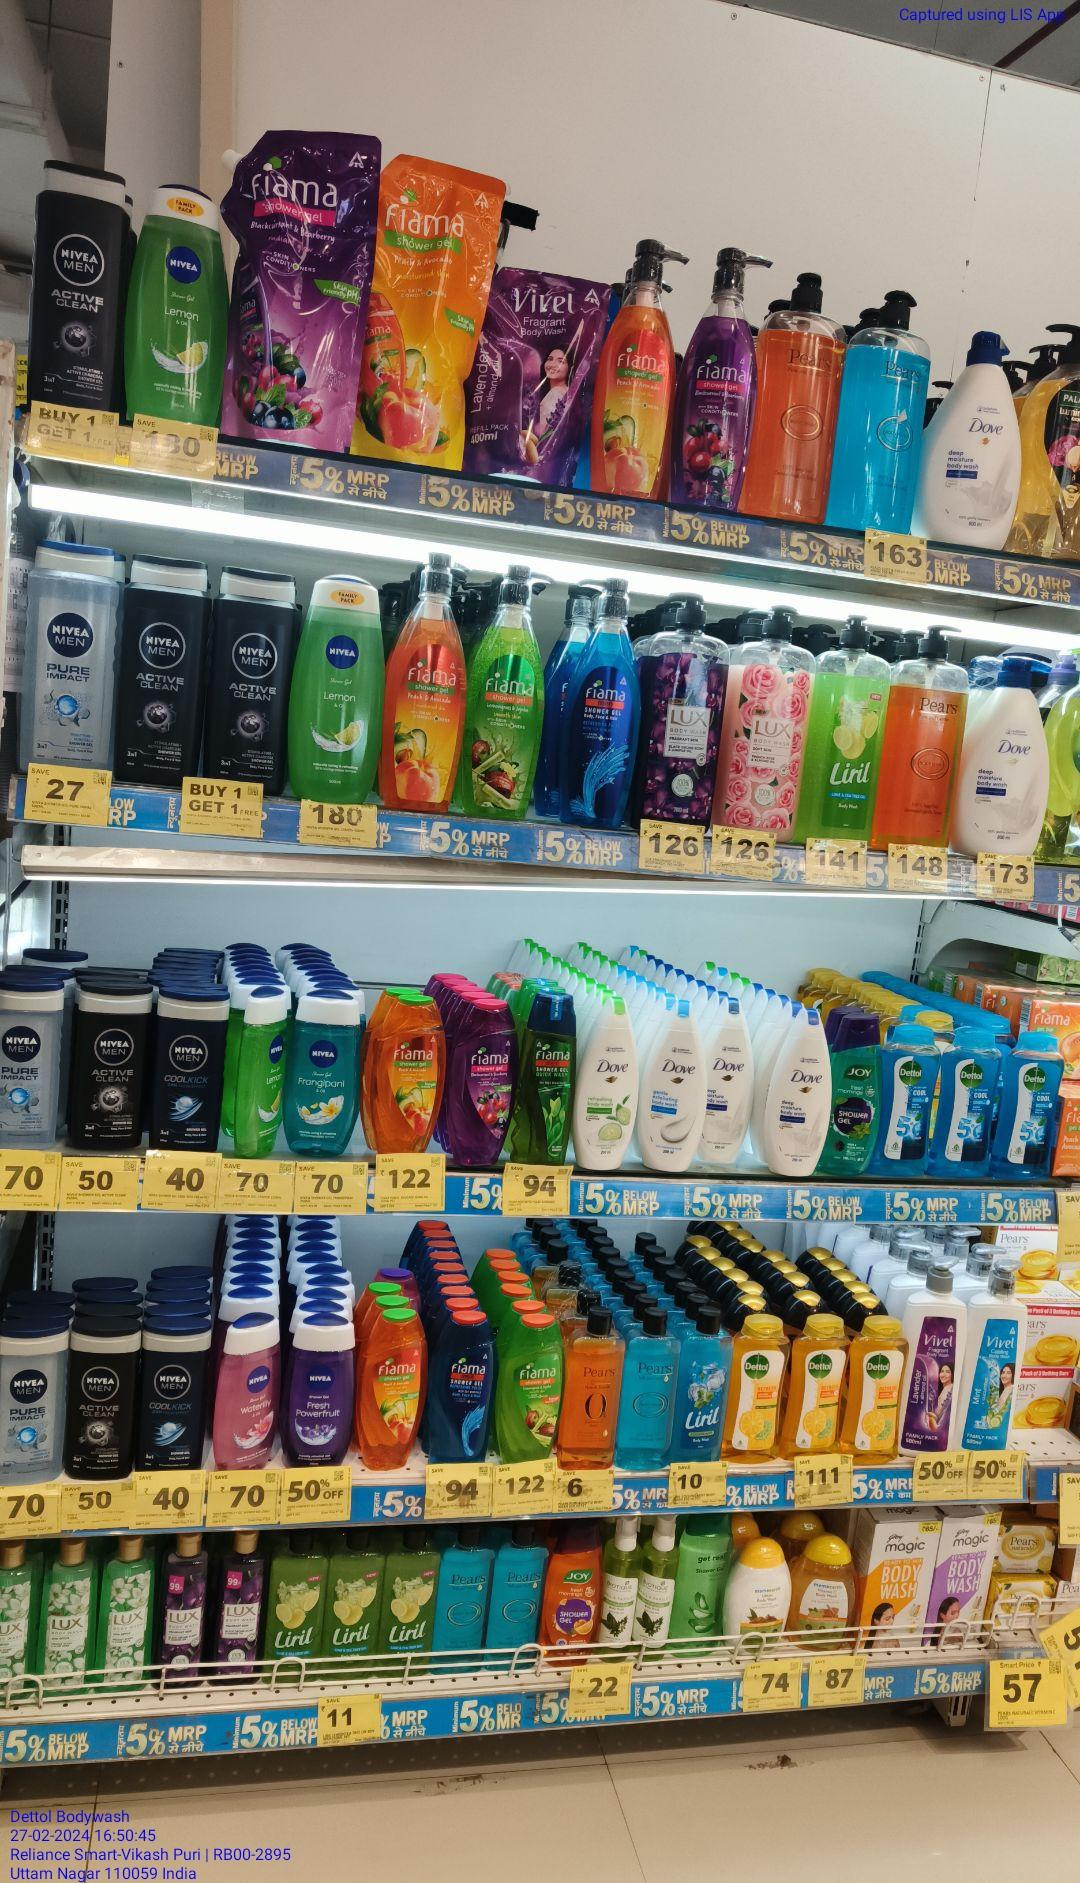Dettol_Bodywash_Cool: (943, 1027, 997, 1185), (1006, 1032, 1062, 1185), (886, 1023, 935, 1178)
Dettol_Bodywash_Refresh: (728, 1320, 781, 1467), (848, 1320, 903, 1460), (792, 1318, 843, 1458)
Dove_Deep_Moisture_Body_Wash_250ML: (770, 1006, 828, 1178), (709, 997, 757, 1169)
Dove_Gentle_Exfoliating_Body_Wash_250ML: (642, 1000, 707, 1173)
Dove_Refreshing_Body_Wash_250ML: (578, 998, 639, 1172)
Fiama_Shower_Gel_Lemongrass_and_Jojoba_250ML: (503, 1317, 561, 1465)
Fiama_Shower_Gel_Peach_and_Avocado_250ML: (358, 1311, 426, 1474), (376, 992, 440, 1161)
Joy_Shower_Gel_Mandarin_and_Lemongrass_250ML: (546, 1522, 608, 1666)
Joy_Shower_Gel_Mint_and_Eucalyptus_250ML: (833, 1011, 881, 1178)
Liril_Cooling_Mint_Body_Wash_250ML: (678, 1309, 726, 1470)
Liril_Lime_and_Tea_Tree_Oil_Body_Wash_250ML: (269, 1534, 321, 1685), (329, 1531, 380, 1683), (384, 1527, 433, 1680)
Lux_Black_Orchid_Scent_and_Juniper_Oil_Body_Wash_245ML: (158, 1531, 212, 1694), (216, 1530, 264, 1689)
Lux_Body_Wash_Skin_Detox_Freesia_Scent_and_Alove_Vera_245ML: (101, 1536, 154, 1694), (44, 1539, 94, 1702), (0, 1539, 38, 1711)
Nivea_Shower_Gel_Frangipani_and_Oil_250ML: (290, 987, 354, 1161)
Nivea_Shower_Gel_Fresh_Powerfruit_250ML: (287, 1318, 347, 1467)
Nivea_Shower_Gel_Lemon_and_Oil_250ML: (124, 180, 232, 427), (294, 573, 385, 808), (243, 991, 288, 1163)
Nivea_Shower_Gel_Waterlily_and_Oil_250ML: (215, 1311, 279, 1472)
Pears_Pure_Glycerin_and_Mint_Extracts_Body_Wash_250ML: (630, 1309, 676, 1478), (438, 1525, 488, 1680), (493, 1529, 542, 1672)
